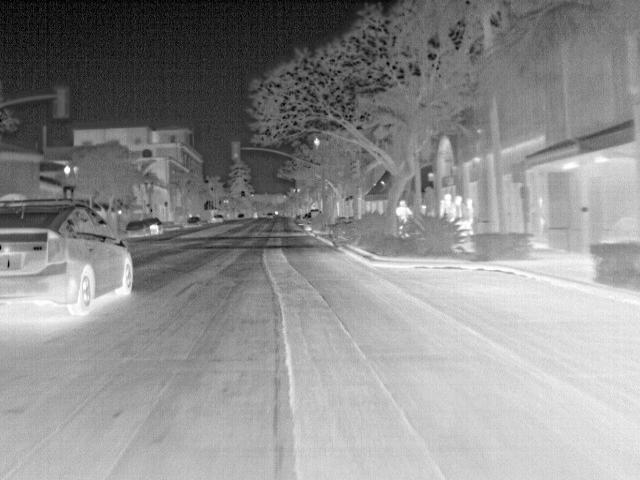car: (0, 197, 139, 316), (124, 220, 151, 239), (142, 218, 163, 236), (184, 214, 204, 228), (211, 213, 224, 224)
person: (438, 191, 455, 222), (452, 195, 466, 224), (395, 199, 413, 221), (464, 197, 476, 223)
